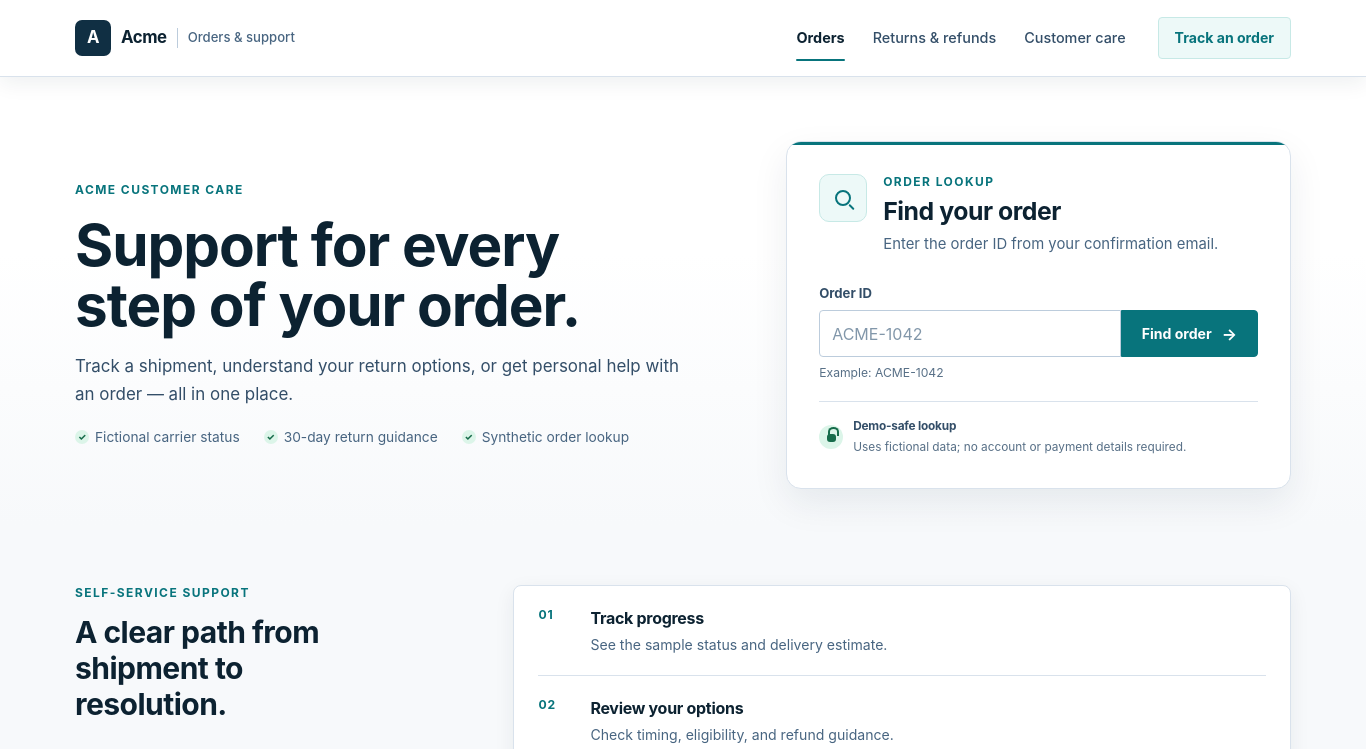
it: SupportPortal customer journey › validates an order ID before sending a request
This screenshot has width=1366, height=749.
Type "wrong-order" into the field with test id "order-id-input" at [970, 334], box [819,310,1121,357]
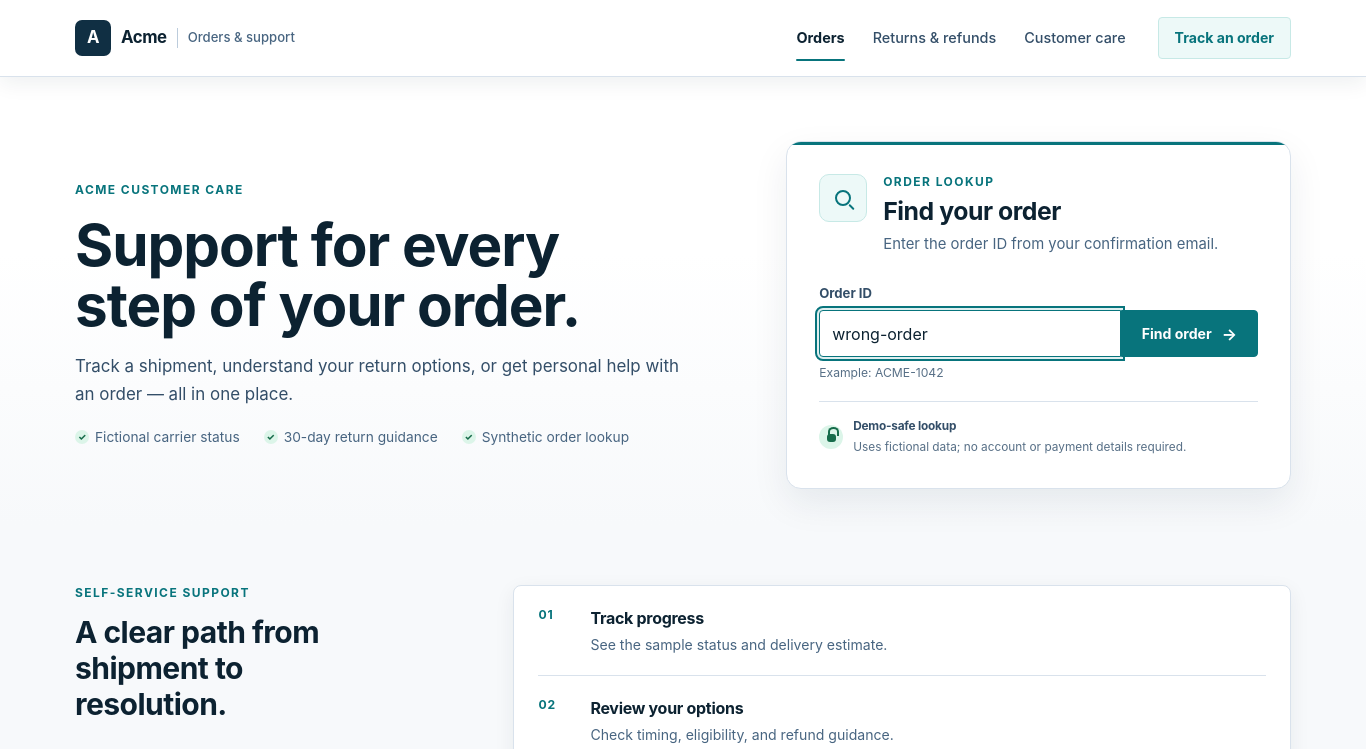
Click the button with test id "order-lookup-button" at [1189, 334], box [1121,310,1258,357]
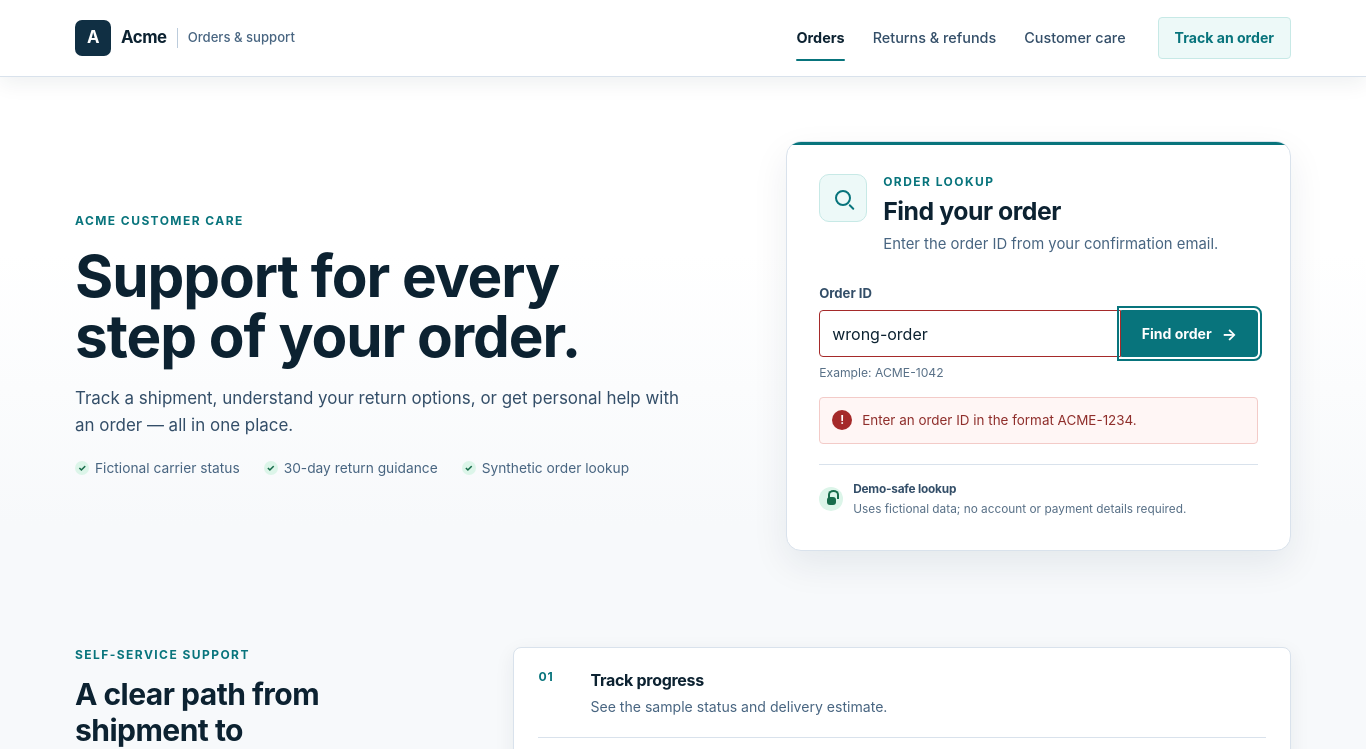
Check: the message with test id "order-lookup-error" shows "ACME-1234", box [862,412,1137,428]
